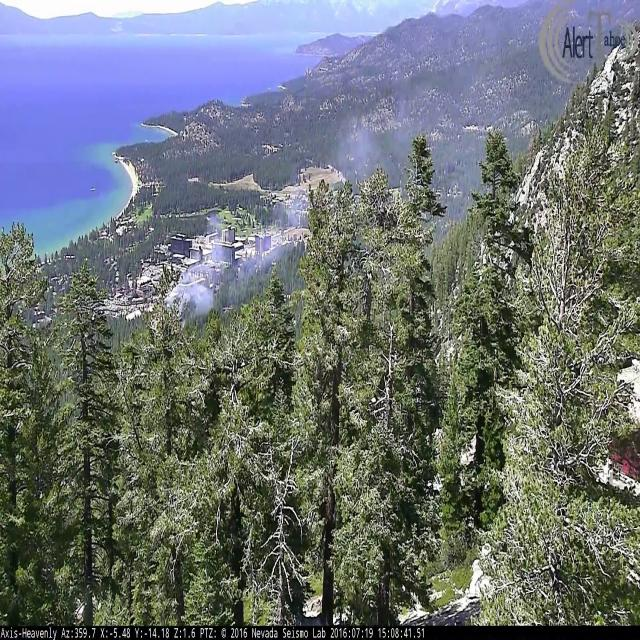smoke: (157, 120, 410, 340)
